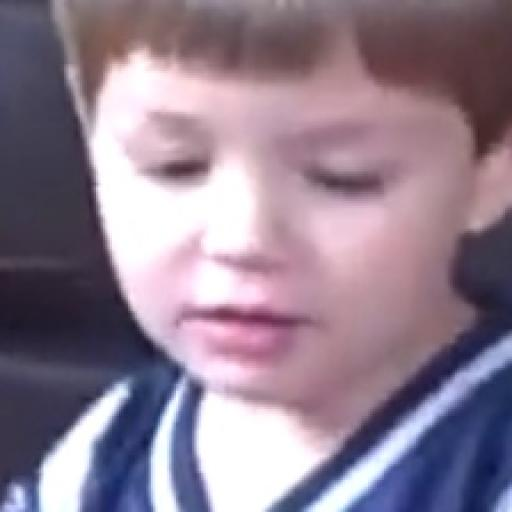Autism: (66, 0, 512, 462)
